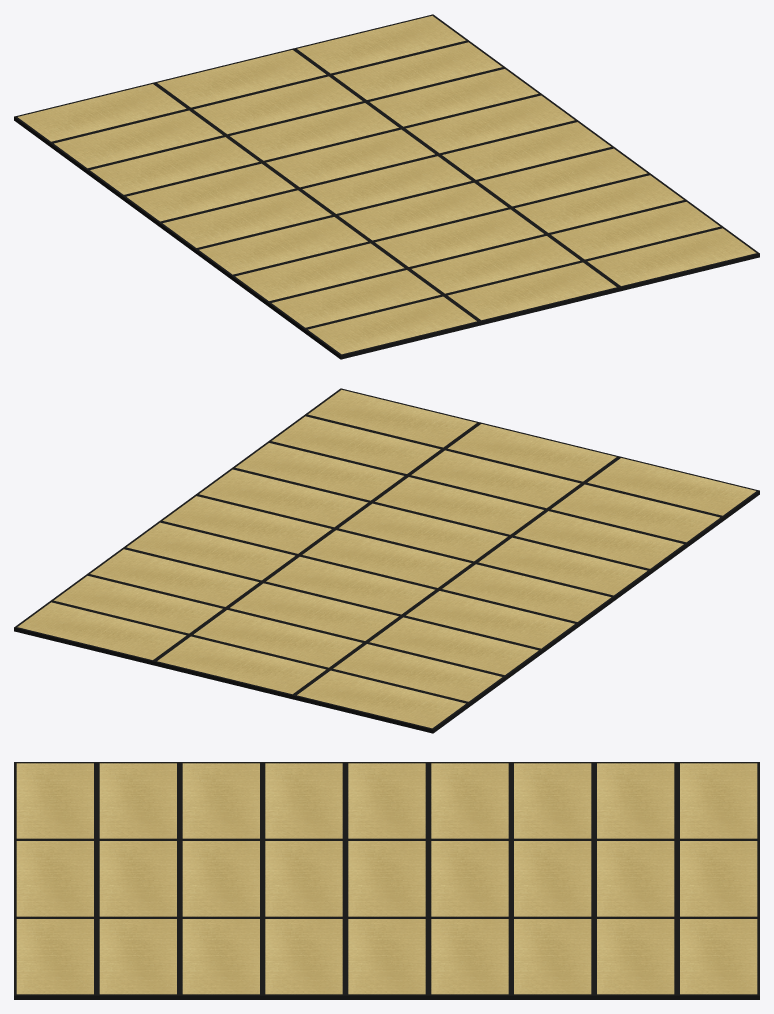
File: MSH_C_Floor_Tatamis_2.glb
3 views of the same model, one above another, from view 1: azimuth 30°, elevation 25°; view 2: azimuth 150°, elevation 25°; view 3: azimuth 270°, elevation 25° (orthographic). The views are drawn at different scales.
Visible parts, largest first — view 1: MSH_C_Floor_Tatamis_2; view 2: MSH_C_Floor_Tatamis_2; view 3: MSH_C_Floor_Tatamis_2.
Boxes of the visible parts, box(x1,y1,x2,y2) form: MSH_C_Floor_Tatamis_2: box(14, 14, 759, 359); MSH_C_Floor_Tatamis_2: box(14, 388, 759, 733); MSH_C_Floor_Tatamis_2: box(14, 762, 759, 999).
Size of the model in its own units: 6 by 0.053 by 8.1.
2 materials, 1 textured.
